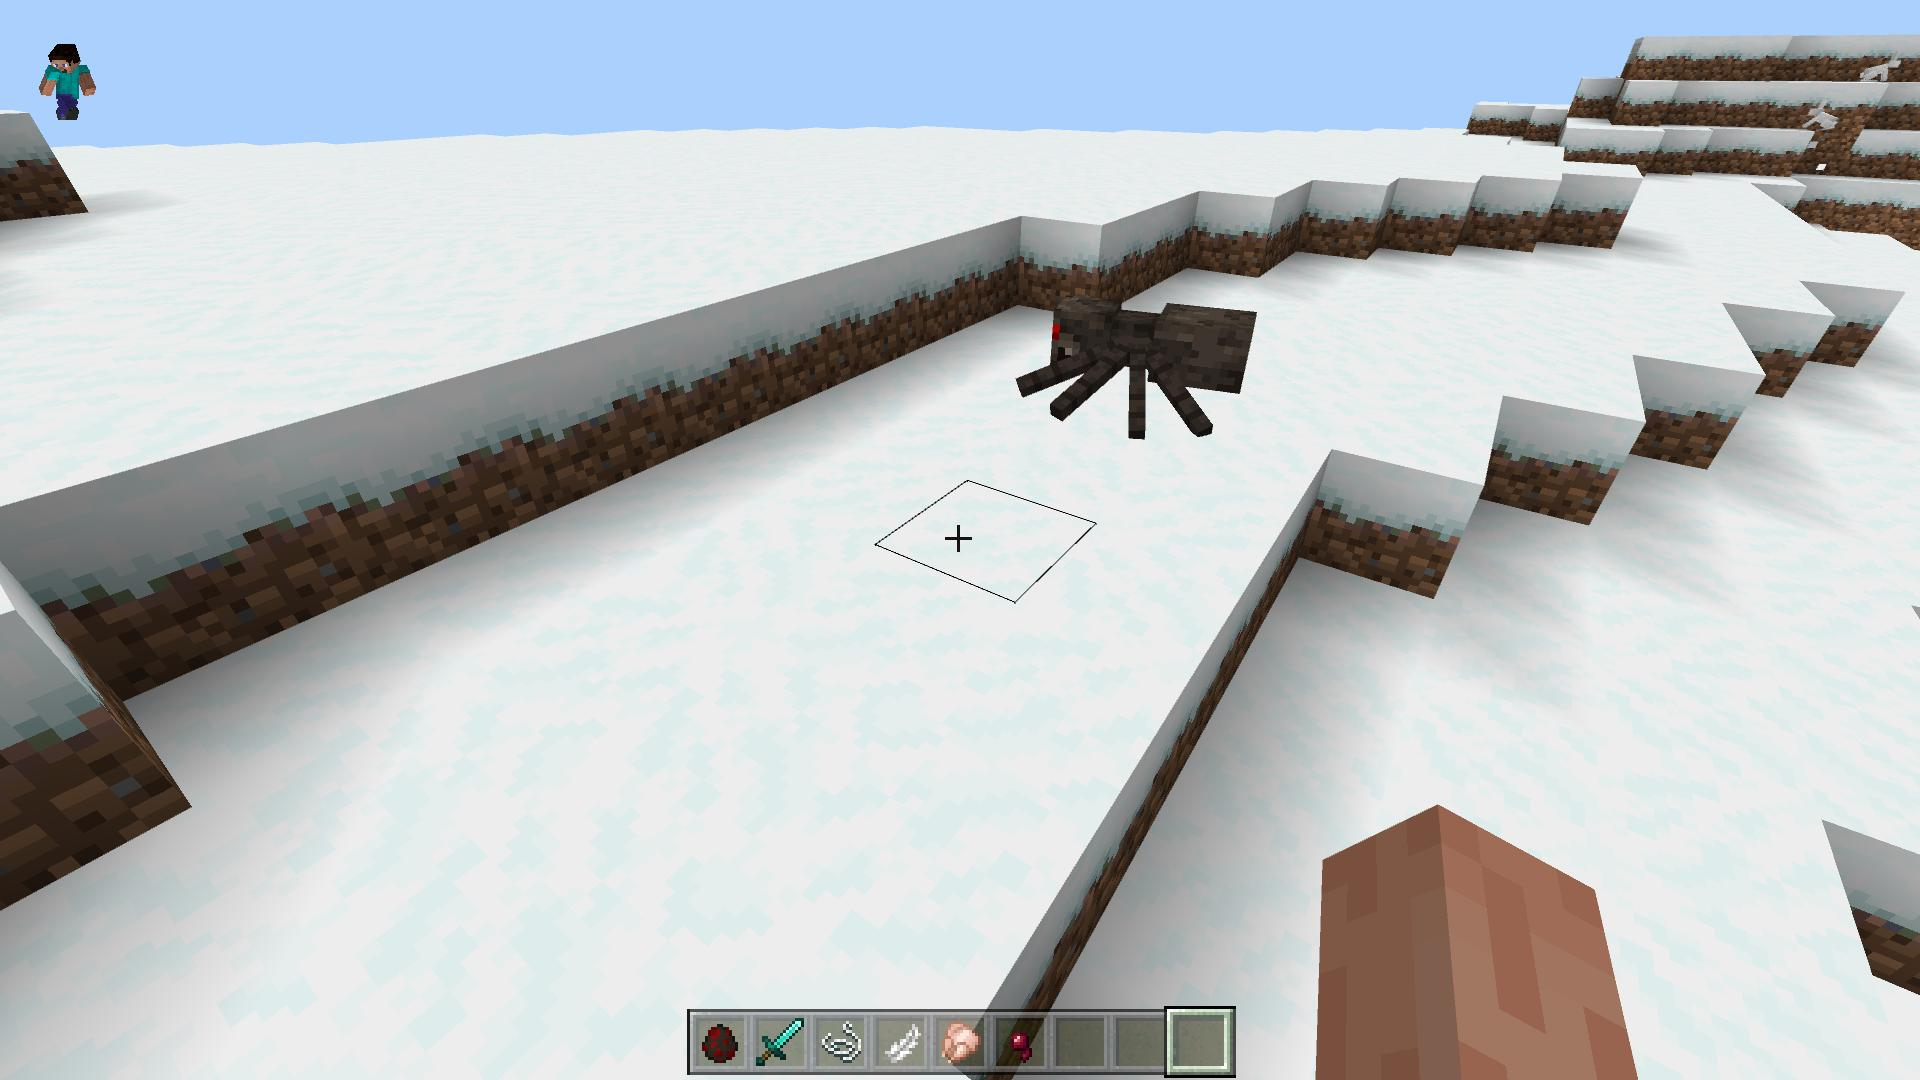spider: (1018, 298, 1253, 440)
